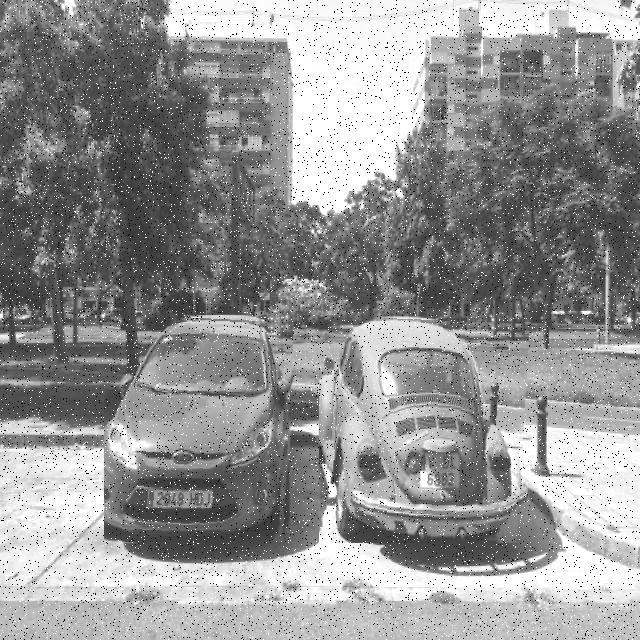car: (320, 316, 531, 544), (105, 314, 295, 543)
